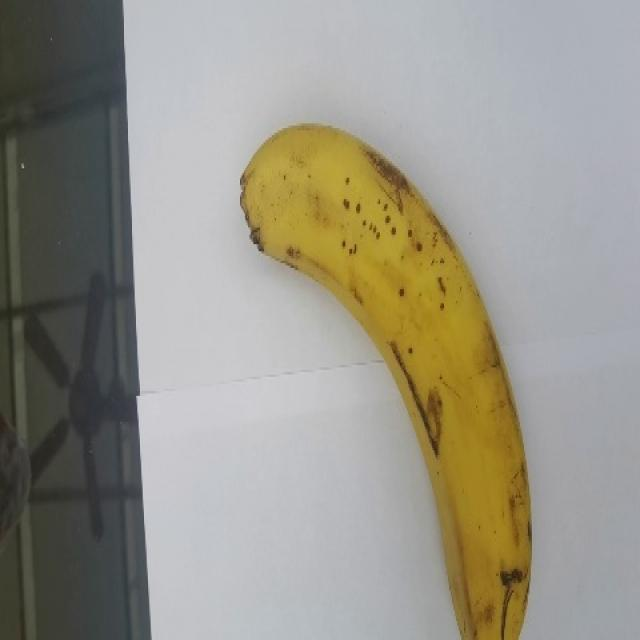Banana: (238, 121, 533, 638)
